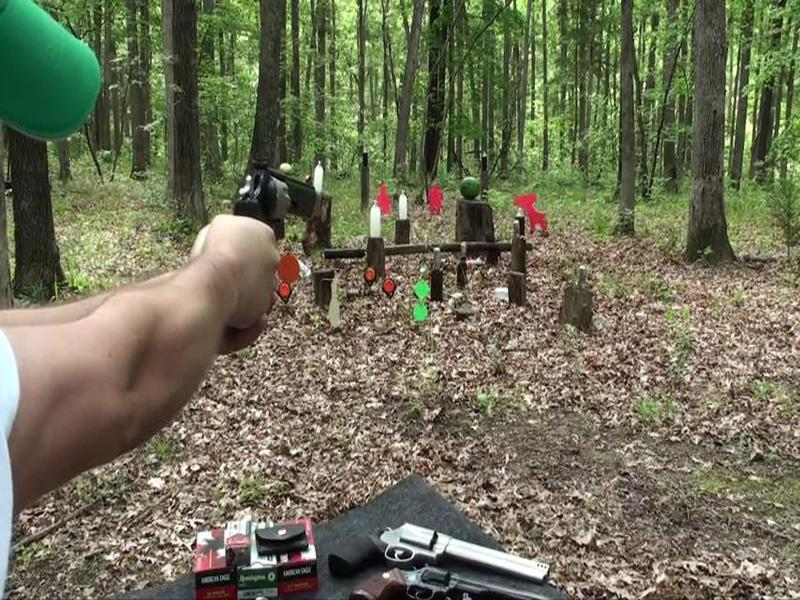Revolver: (217, 157, 334, 259)
